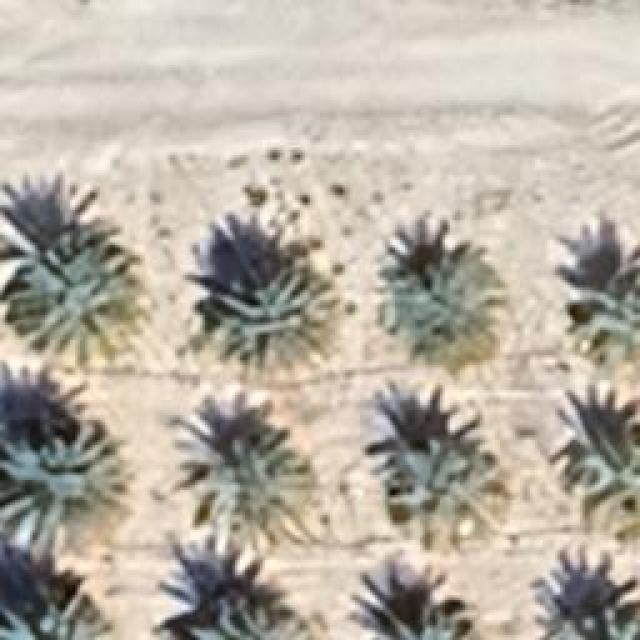PalmTree: (168, 408, 320, 550), (0, 420, 125, 562), (202, 270, 330, 375), (17, 236, 135, 344), (385, 412, 495, 520), (378, 252, 494, 330), (0, 590, 120, 638), (584, 430, 638, 520), (592, 266, 640, 354), (192, 600, 292, 638), (562, 595, 640, 640), (368, 608, 470, 638)
